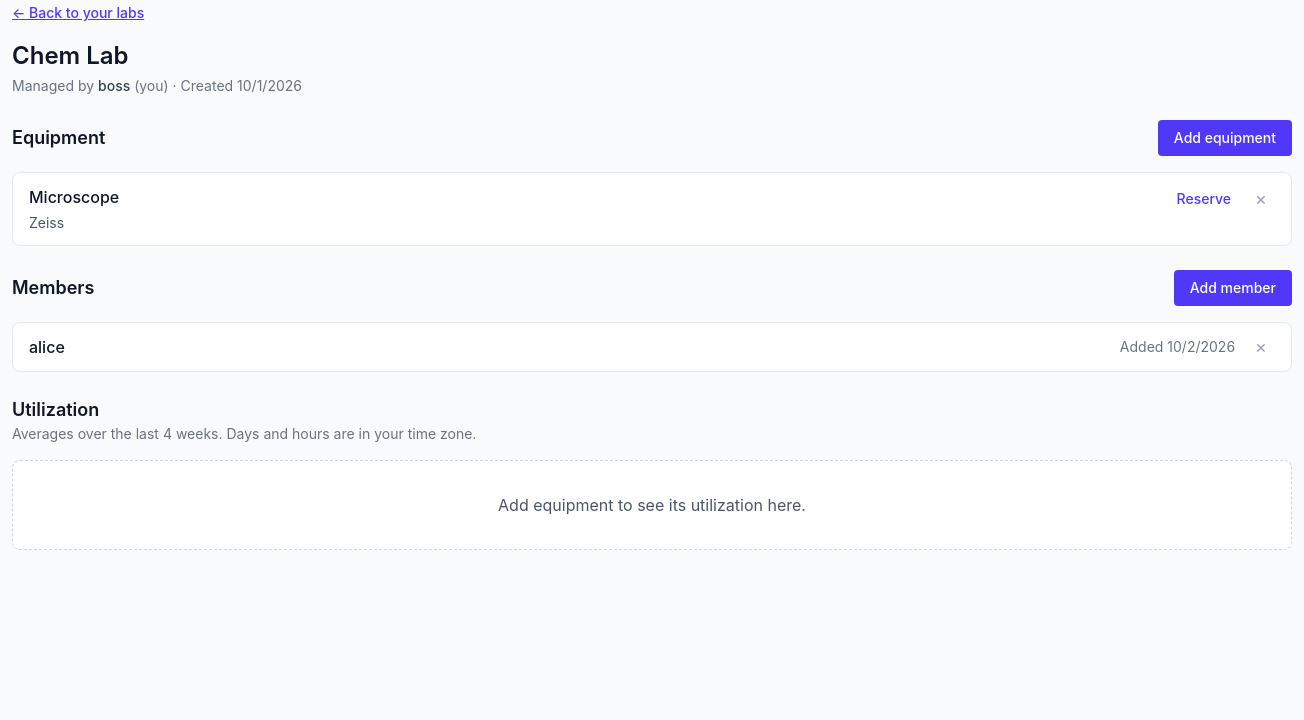
Test: reservation schedule › opens and closes the schedule
This screenshot has width=1304, height=720.
Click the button "Reserve": (1204, 199) x1=1169 y1=185 x2=1239 y2=213
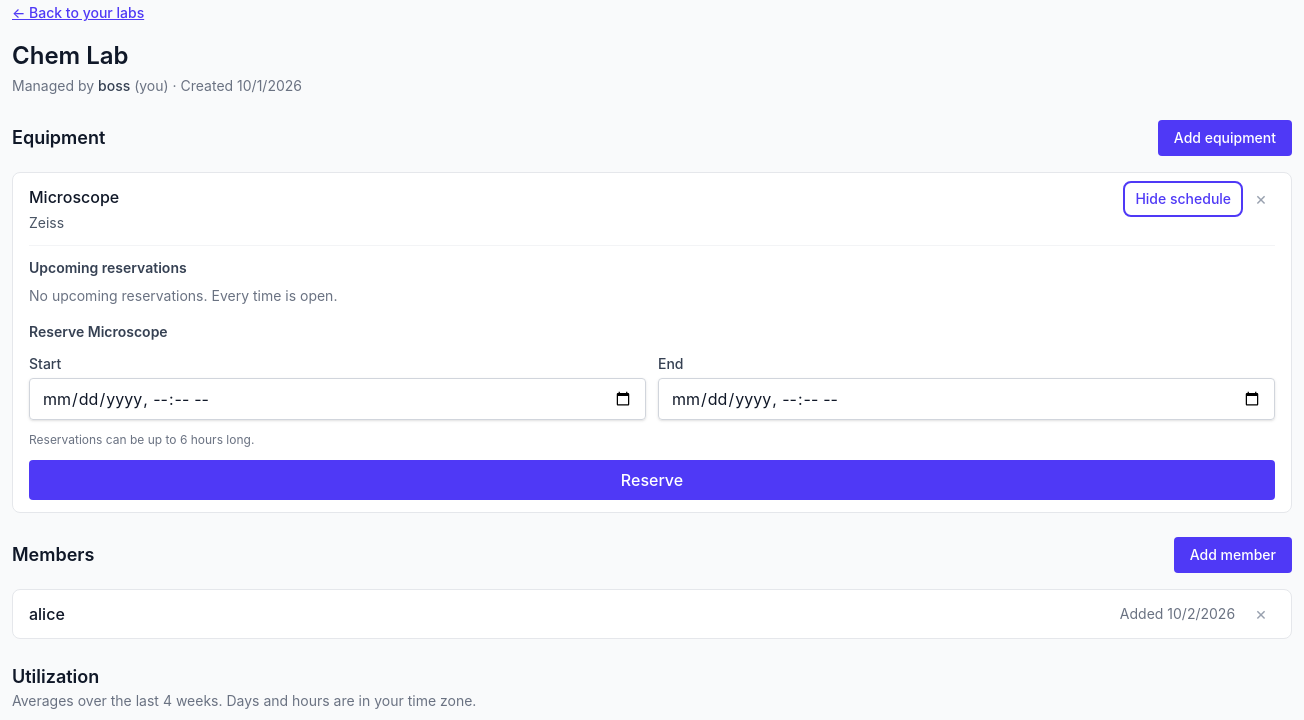
Result: the heading "Upcoming reservations" is shown at x1=29 y1=259 x2=187 y2=276
Result: the text "No upcoming reservations. Every time is open." is shown at x1=29 y1=287 x2=337 y2=304
Click the button "Hide schedule": (1183, 199) x1=1127 y1=185 x2=1239 y2=213
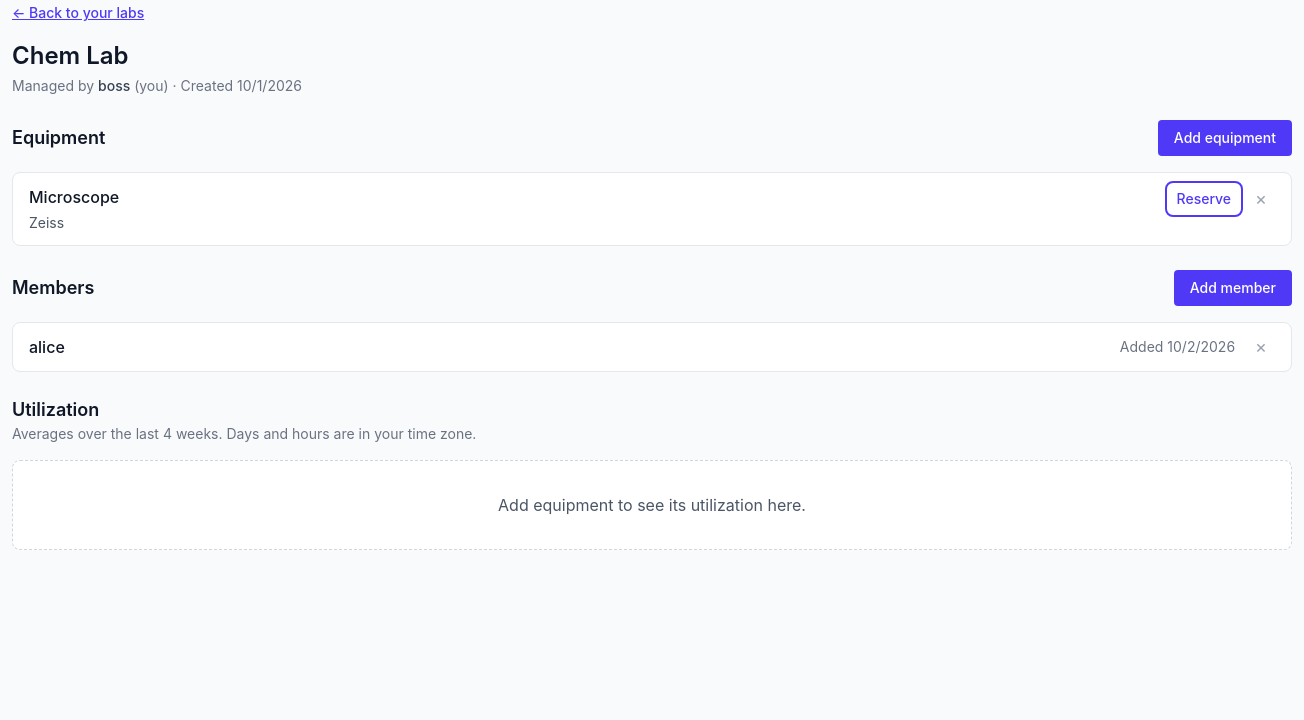
Result: the heading "Upcoming reservations" is gone
